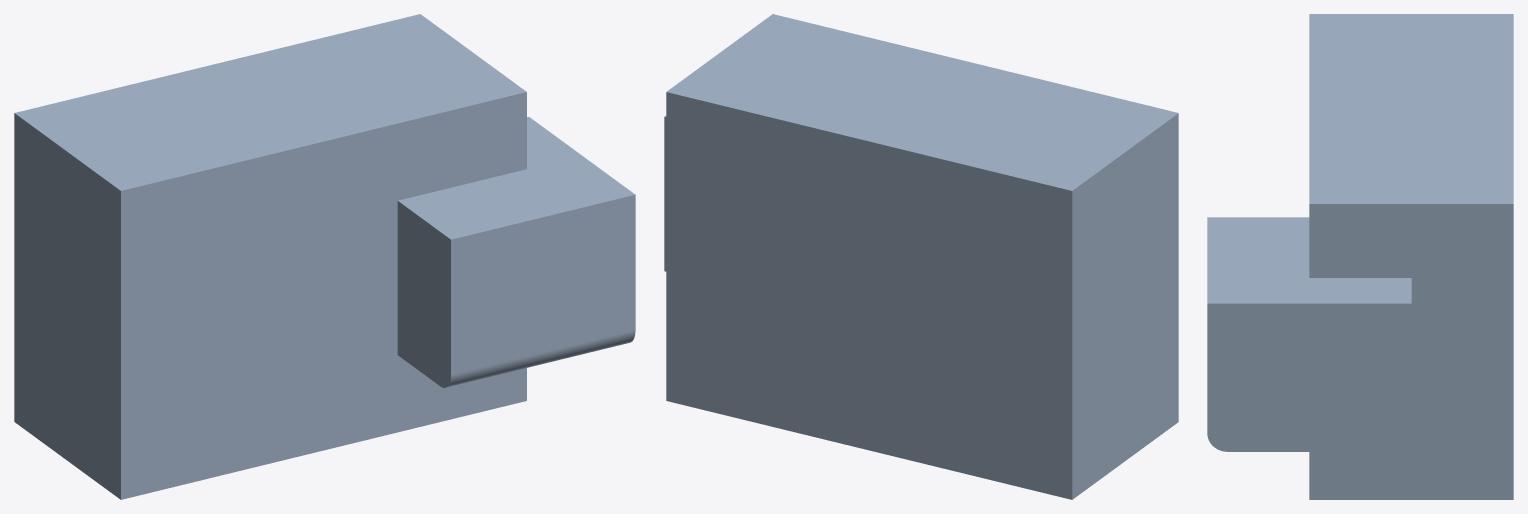
Rendered from editor-compound-bodies.glb.
3 views of the same model, side by side, from view 1: azimuth 30°, elevation 25°; view 2: azimuth 150°, elevation 25°; view 3: azimuth 270°, elevation 25° (orthographic). The views are drawn at different scales.
Visible parts, largest first — view 1: 编辑器候选验收; view 2: 编辑器候选验收; view 3: 编辑器候选验收.
Part boxes in pixels (x1,y1,x2,y2): 编辑器候选验收: [14, 14, 635, 499]; 编辑器候选验收: [664, 14, 1178, 499]; 编辑器候选验收: [1207, 14, 1513, 499].
Bounding box in the file's own units: 25 × 16 × 15.
